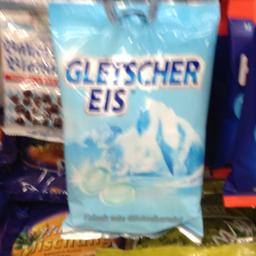candy: (49, 1, 217, 239)
